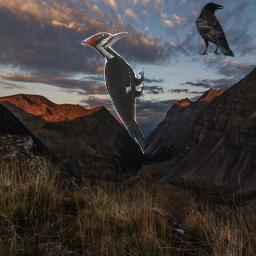Crow: (195, 2, 235, 58)
Woodpecker: (81, 32, 144, 155)
